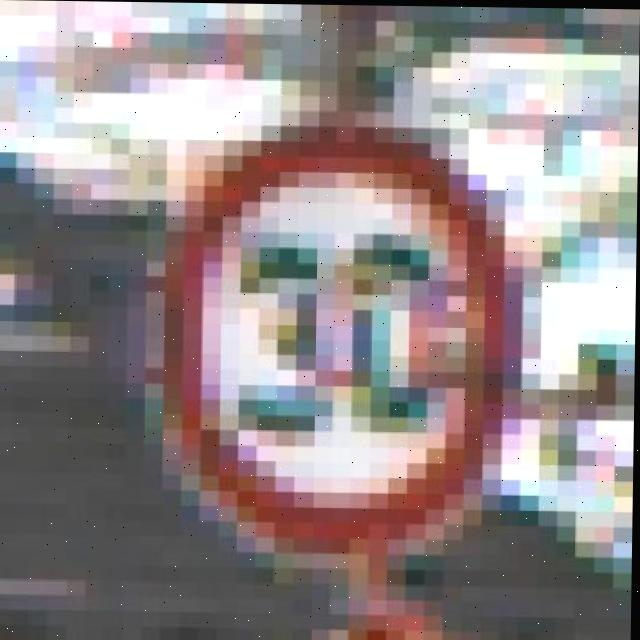Speed limit 30: (159, 127, 523, 561)
